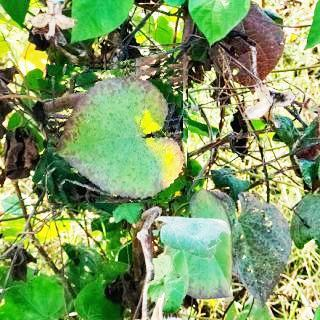leaf spot: (43, 57, 188, 203)
